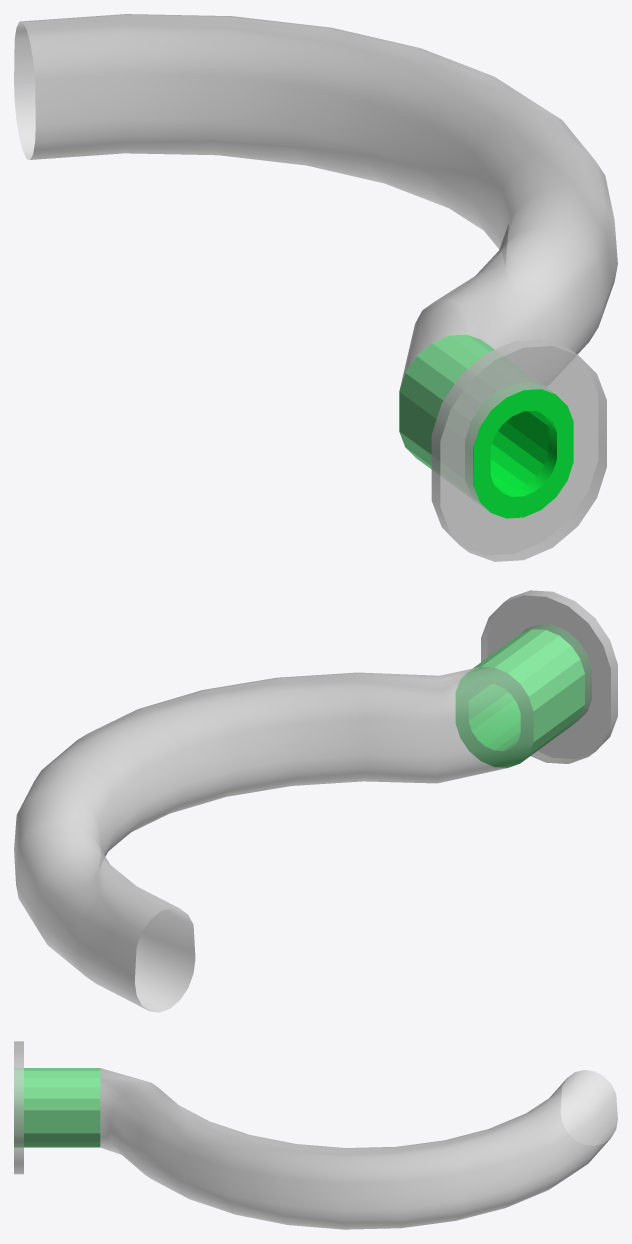
File: Anethesia Cart - Mayo Tube S.FBX
3 views of the same model, one above another, from view 1: azimuth 30°, elevation 25°; view 2: azimuth 150°, elevation 25°; view 3: azimuth 270°, elevation 25° (orthographic). The views are drawn at different scales.
Parts seen in each view (by area): view 1: MayoTube004; view 2: MayoTube004; view 3: MayoTube004.
Boxes of the visible parts, left/top/right/bottom form: MayoTube004: left=14, top=14, right=617, bottom=561; MayoTube004: left=14, top=590, right=617, bottom=1012; MayoTube004: left=14, top=1041, right=617, bottom=1229.
Size of the model in its own units: 3.3 by 1.6 by 7.14.
